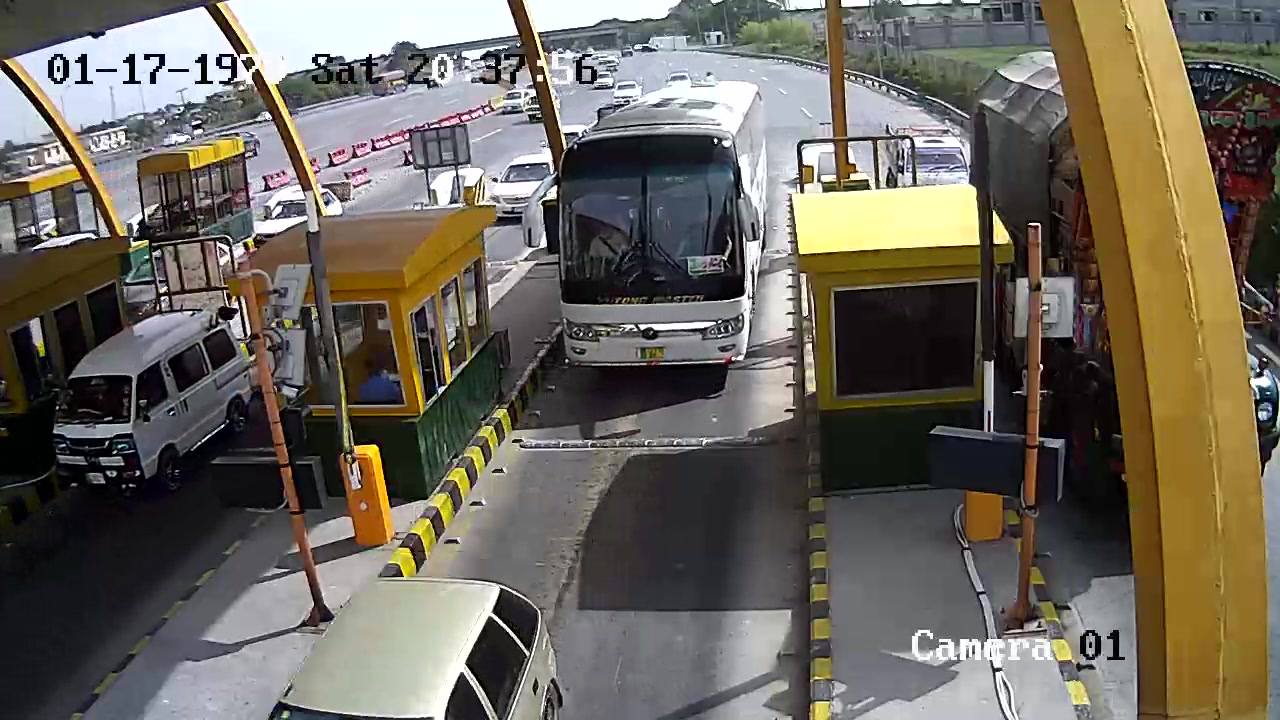F4: (547, 72, 783, 400)
